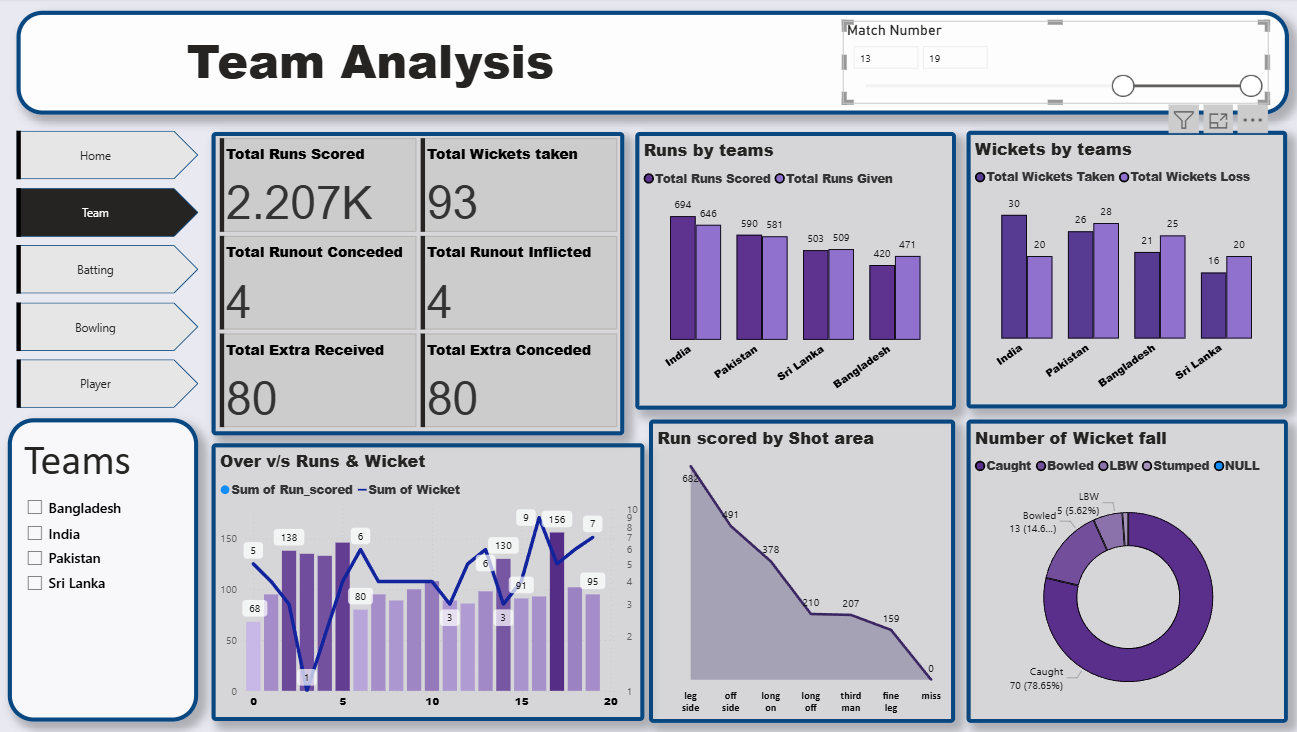

Layout of this report page (visuals, bound fields, positions):
{"tool":"powerbi","page":{"name":"Team","canvas":[1500,850],"ordinal":1},"visuals":[{"type":"textbox","box":[10,486.7,220,350],"z":0},{"type":"textbox","box":[19.9,15.7,1469.8,119.6],"z":1000},{"type":"slicer","fields":{"Values":["page_1(overall).Team_name"]},"box":[20,570,205,245],"z":2000},{"type":"pageNavigator","box":[20,155,210,320],"z":3000},{"type":"cardVisual","fields":{"Data":["Sum(page_1(overall).Total_runs_scored)","Sum(page_1(overall).Total_wickets_taken)","Sum(page_1(overall).Total_Run_out_Conceded)","Sum(page_1(overall).Total_Run_out_Inflicted)","Sum(page_1(overall).Total_extraruns_Received)","Sum(page_1(overall).Total_extraruns_Conceded)"]},"box":[245,155.2,477.1,350.4],"z":4000},{"type":"slicer","title":"Match Number","fields":{"Values":["page_1(Match).Match_id"]},"box":[974.2,27.1,492.8,95.4],"z":5000},{"type":"clusteredColumnChart","title":"Runs by teams","fields":{"Category":["page_1(overall).Team_name"],"Y":["Sum(page_1(overall).Total_runs_scored)","Sum(page_1(overall).Total_runs_given)"]},"box":[734.9,155.2,370,320.5],"z":6000},{"type":"clusteredColumnChart","title":"Wickets by teams","fields":{"Category":["page_1(overall).Team_name"],"Y":["Sum(page_1(overall).Total_wickets_taken)","Sum(page_1(overall).Total_wickets_loss)"]},"box":[1118.1,153.8,370.3,320.5],"z":7000},{"type":"lineClusteredColumnComboChart","title":"Over v/s Runs & Wicket","fields":{"Category":["page_ball_by_ball.over_number"],"Y":["Sum(page_ball_by_ball.Run_scored)"],"Y2":["Sum(page_ball_by_ball.Wicket)"]},"box":[245,515.6,500,320.5],"z":9000},{"type":"donutChart","title":"Number of Wicket fall","fields":{"Category":["ball_by_ball.Wicket_type"],"Y":["Sum(ball_by_ball.Wicket)"]},"box":[1117.6,487.2,371.5,350.6],"z":10000},{"type":"areaChart","title":"Run scored by Shot area","fields":{"Category":["page_ball_by_ball.Shot_area"],"Y":["Sum(page_ball_by_ball.Run_scored)"]},"box":[751,487.2,353.8,350.6],"z":11000}]}

Visuals, with their boxes in screenshot pixels (x1, y1, x2, y2), scaled from the page's 1500x850 canvas onto the 1297x732 screenshot:
textbox: detection(9, 419, 199, 721)
textbox: detection(17, 14, 1288, 117)
slicer - page_1(overall).Team_name: detection(17, 491, 195, 702)
pageNavigator: detection(17, 133, 199, 409)
cardVisual - Sum(page_1(overall).Total_runs_scored) x Sum(page_1(overall).Total_wickets_taken): detection(212, 134, 624, 435)
"Match Number" slicer: detection(842, 23, 1268, 105)
"Runs by teams" clusteredColumnChart: detection(635, 134, 955, 410)
"Wickets by teams" clusteredColumnChart: detection(967, 132, 1287, 408)
"Over v/s Runs & Wicket" lineClusteredColumnComboChart: detection(212, 444, 644, 720)
"Number of Wicket fall" donutChart: detection(966, 420, 1288, 721)
"Run scored by Shot area" areaChart: detection(649, 420, 955, 721)
